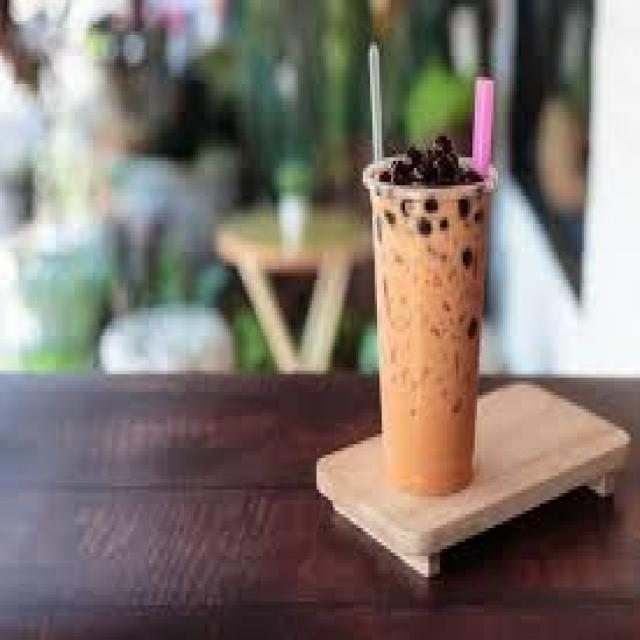bottle: (363, 135, 495, 494)
